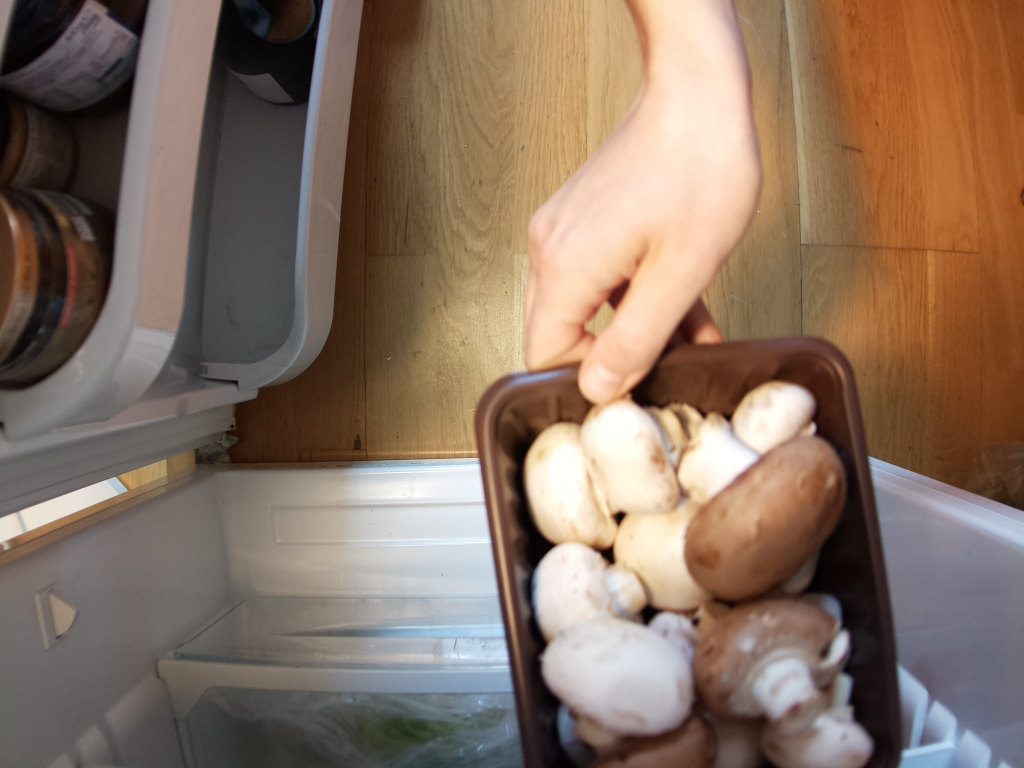mushrooms: (478, 335, 918, 768)
